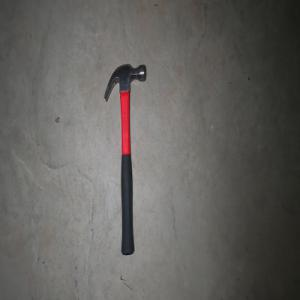Hammer: (103, 62, 146, 256)
